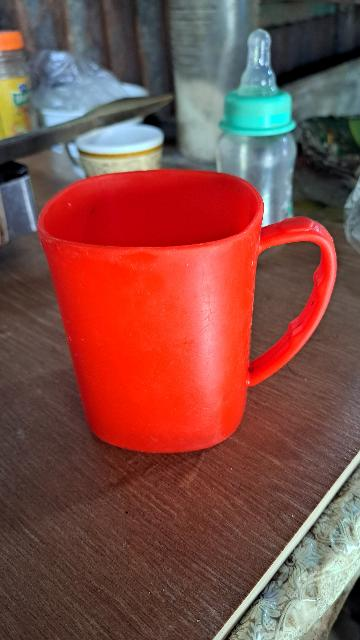hardplastic: (60, 185, 270, 449), (210, 33, 301, 225)
